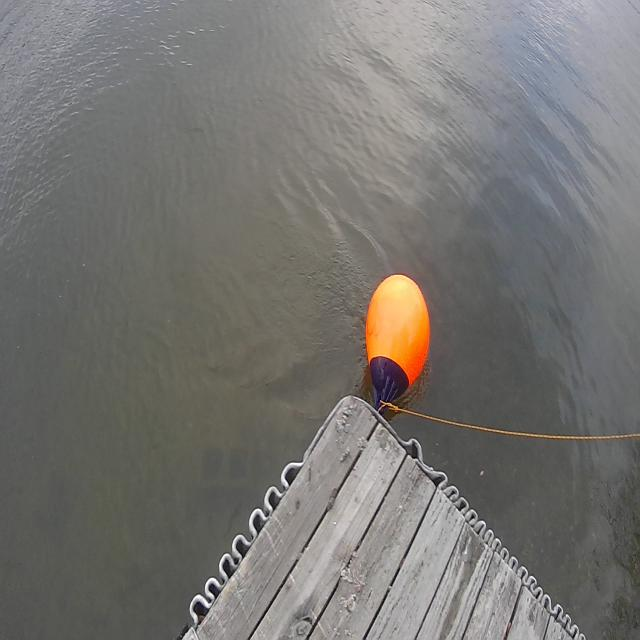Buoy: (362, 262, 434, 420)
